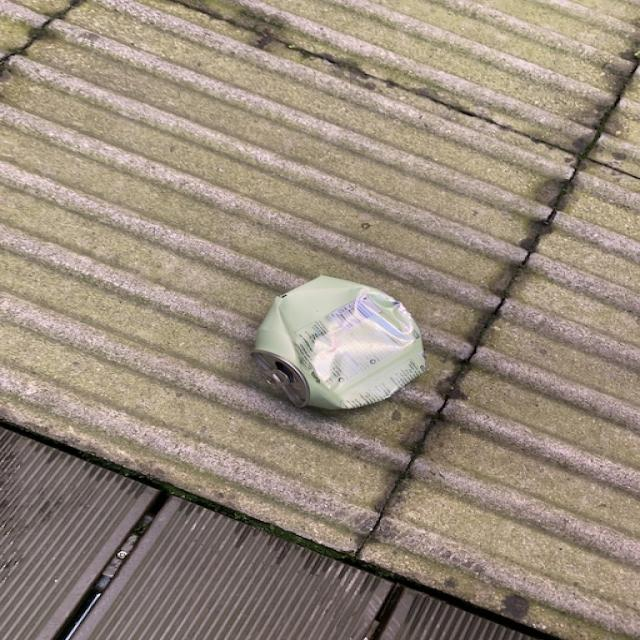litter: (250, 278, 436, 416)
